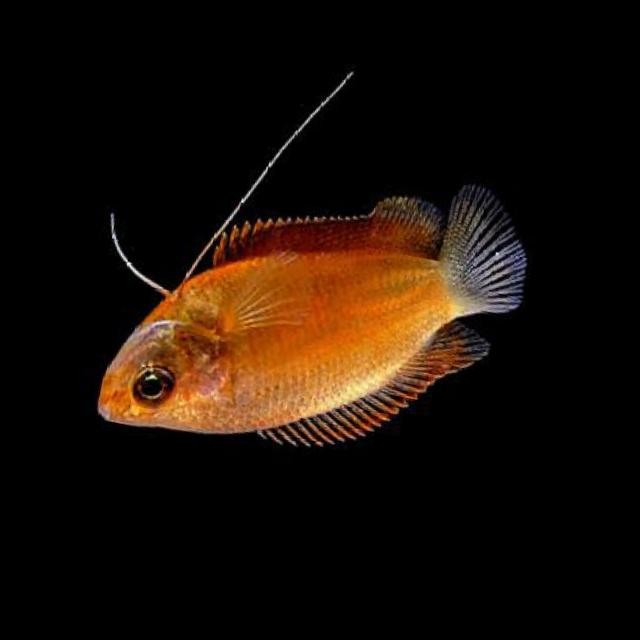Gourami: (90, 128, 546, 502)
